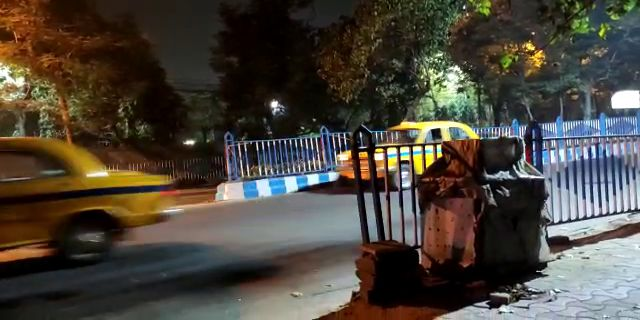Car: (6, 135, 182, 252), (330, 120, 484, 178)
